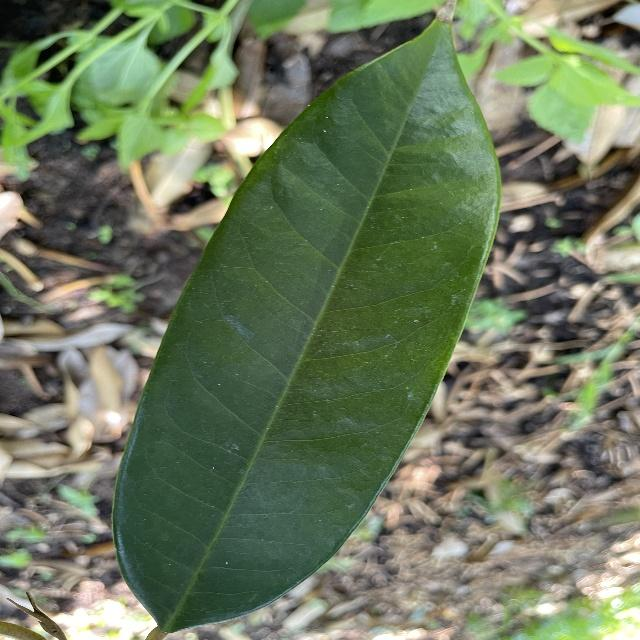No Disease: (105, 0, 521, 637)
